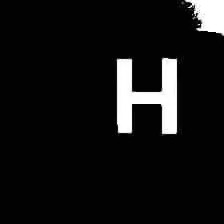LTR_H: (104, 51, 187, 139)
